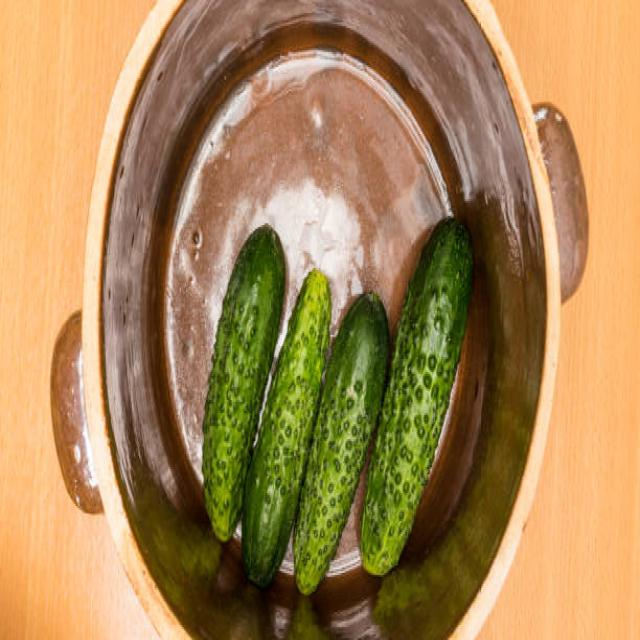cucumber: (358, 214, 477, 579), (293, 288, 392, 596), (244, 268, 332, 592), (201, 221, 284, 541)
